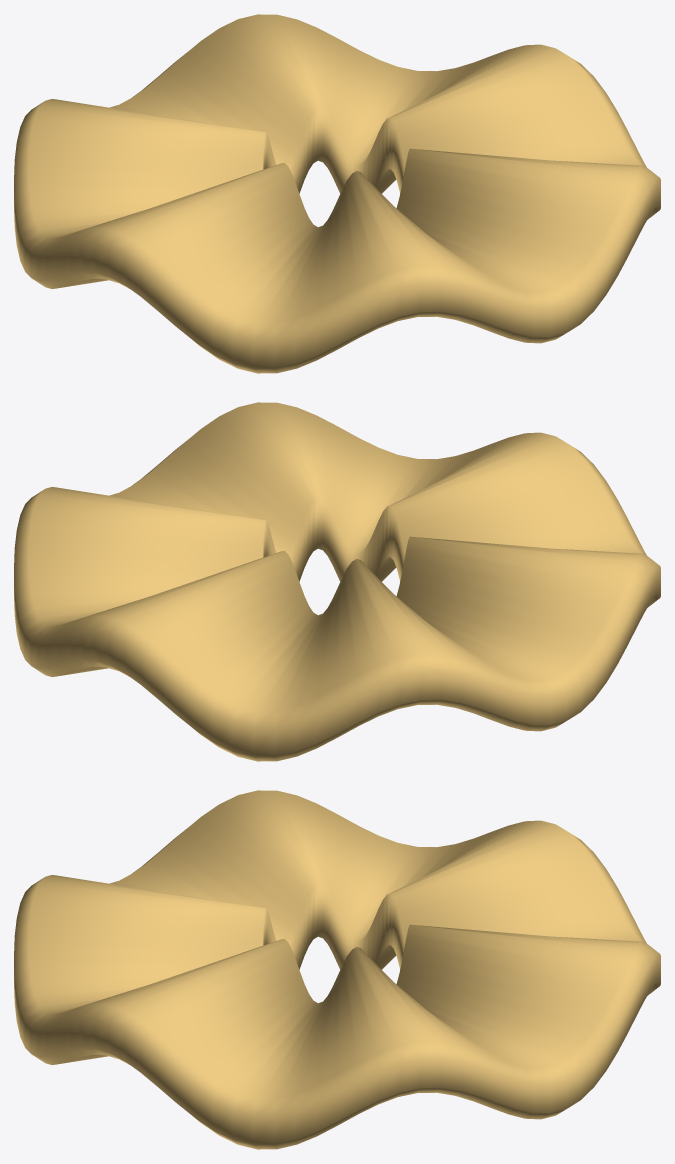
Rendered from spacer-19-gold.glb.
3 views of the same model, one above another, from view 1: azimuth 30°, elevation 25°; view 2: azimuth 150°, elevation 25°; view 3: azimuth 270°, elevation 25° (orthographic).
Visible parts, largest first — view 1: Spacer with through bore.040; view 2: Spacer with through bore.040; view 3: Spacer with through bore.040.
Part boxes in pixels (bbox=[...]): Spacer with through bore.040: bbox=[14, 14, 660, 373]; Spacer with through bore.040: bbox=[14, 402, 660, 761]; Spacer with through bore.040: bbox=[14, 790, 660, 1149].
Bounding box in the file's own units: 0.0052 × 0.00095 × 0.0052.
